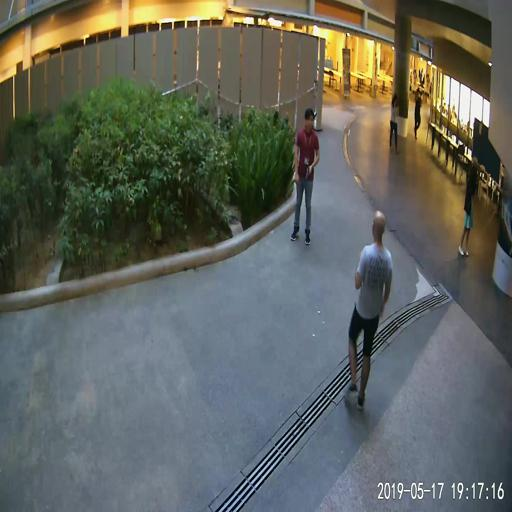pistol: (305, 165, 312, 178)
